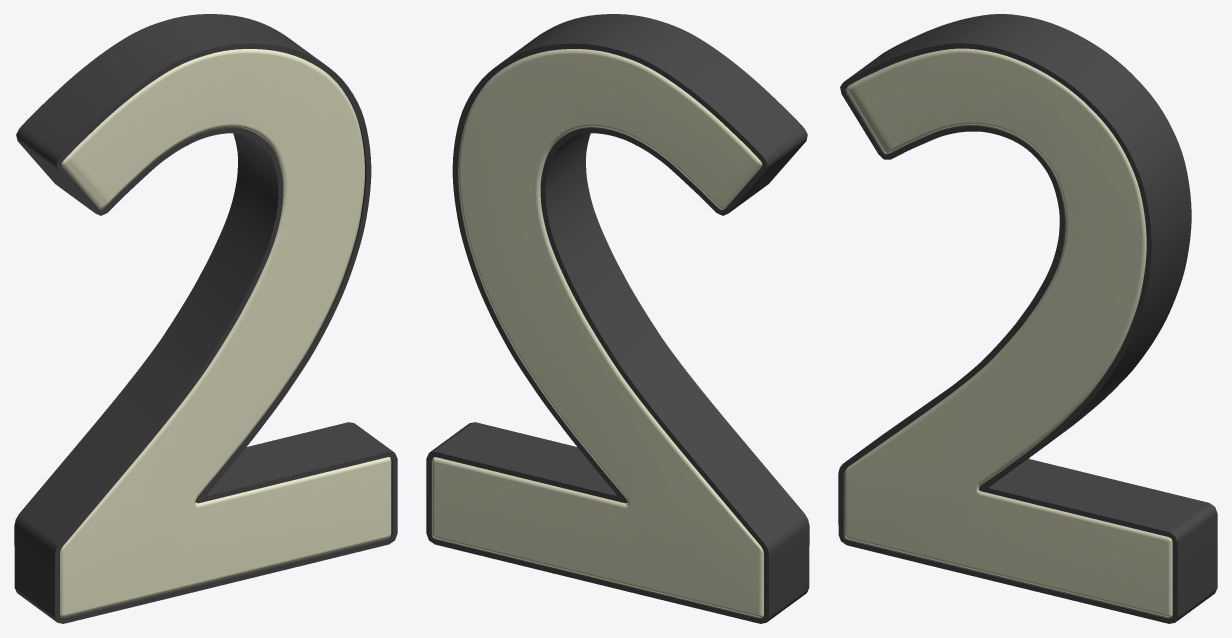
The model's file is Simple two.glb.
3 renders of one model, left to right at view 1: azimuth 30°, elevation 25°; view 2: azimuth 150°, elevation 25°; view 3: azimuth 330°, elevation 25°, orthographic.
Parts seen in each view (by area): view 1: letters_simple_two_fill_ar, letters_simple_two_border_ar; view 2: letters_simple_two_fill_ar, letters_simple_two_border_ar; view 3: letters_simple_two_fill_ar, letters_simple_two_border_ar.
Boxes of the visible parts, x1,y1,x2,y2 form: letters_simple_two_fill_ar: (60,49,391,617); letters_simple_two_border_ar: (14,14,397,623); letters_simple_two_fill_ar: (432,49,763,617); letters_simple_two_border_ar: (426,14,809,623); letters_simple_two_fill_ar: (844,48,1172,617); letters_simple_two_border_ar: (838,14,1217,623).
Size of the model in its own units: 0.18 by 0.2707 by 0.0381.
